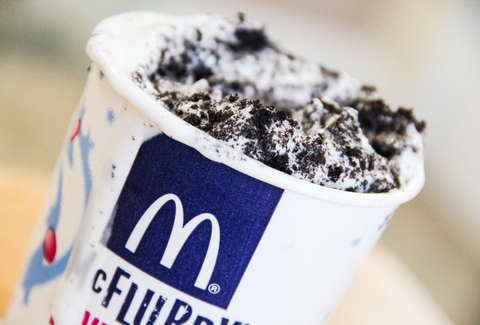mcdonalds: (120, 188, 224, 291)
